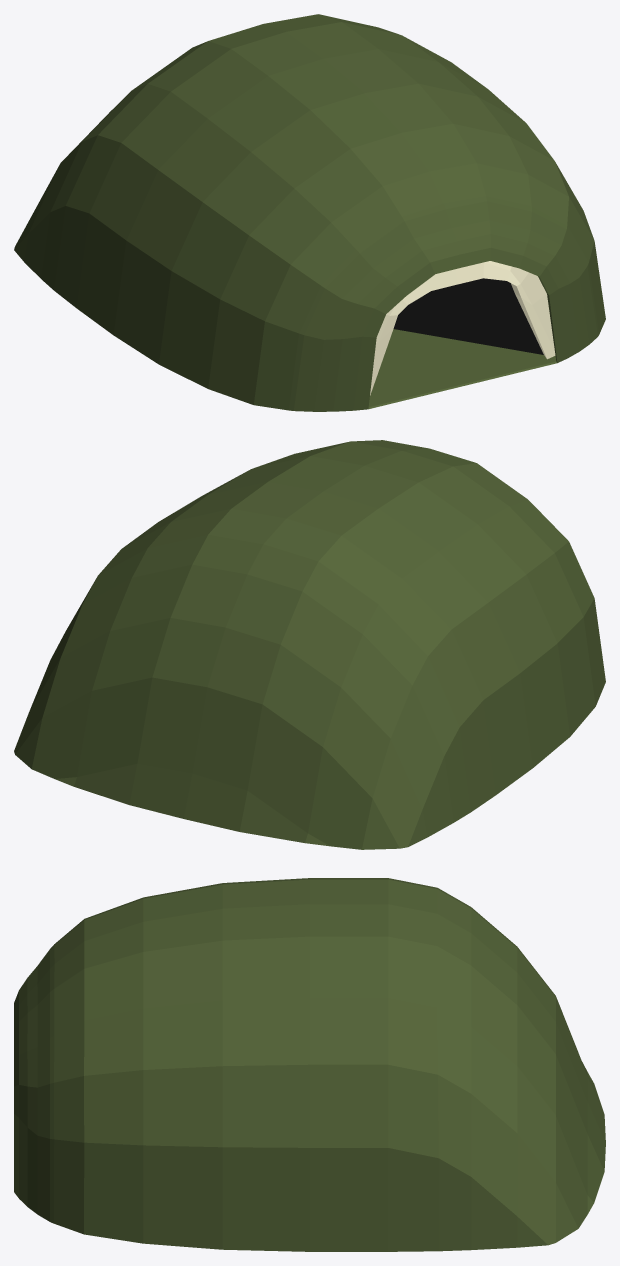
The model's file is Tent.fbx.
3 views of the same model, one above another, from view 1: azimuth 30°, elevation 25°; view 2: azimuth 150°, elevation 25°; view 3: azimuth 270°, elevation 25° (orthographic). The views are drawn at different scales.
Parts seen in each view (by area): view 1: Plane.001, Plane; view 2: Plane.001; view 3: Plane.001.
Boxes of the visible parts, left/top/right/bottom form: Plane.001: left=14, top=14, right=605, bottom=411; Plane: left=370, top=261, right=555, bottom=395; Plane.001: left=14, top=440, right=605, bottom=849; Plane.001: left=14, top=878, right=605, bottom=1251.
Bounding box in the file's own units: 998 × 513 × 1150.
